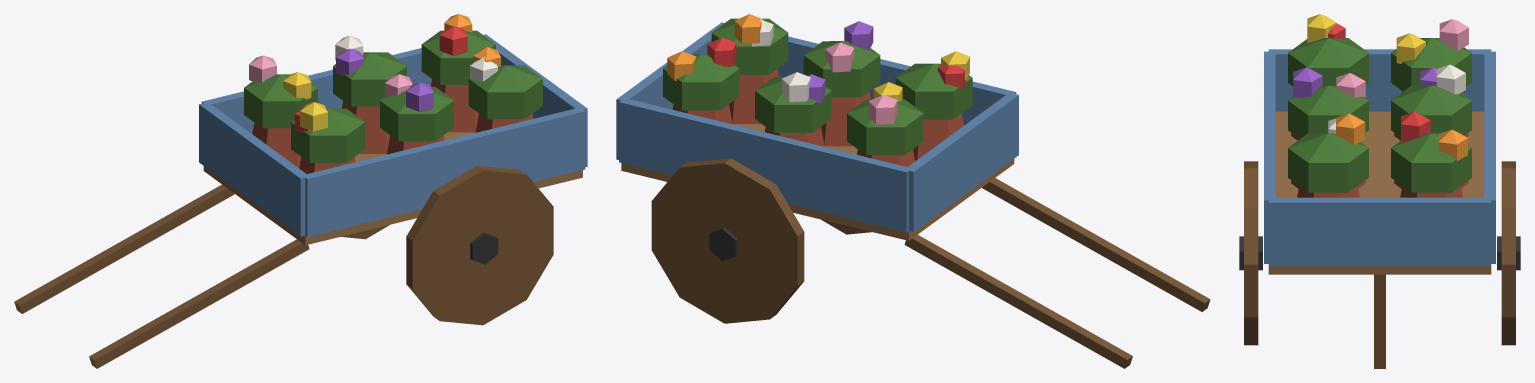
File: flower_cart.glb
The picture shows the model from 3 angles, left to right: view 1: azimuth 30°, elevation 25°; view 2: azimuth 150°, elevation 25°; view 3: azimuth 270°, elevation 25°; orthographic projection. The views are drawn at different scales.
Parts seen in each view (by area): view 1: flower_cart; view 2: flower_cart; view 3: flower_cart.
Boxes of the visible parts, <box> form: flower_cart: <box>14,14,587,368</box>; flower_cart: <box>616,14,1210,368</box>; flower_cart: <box>1239,14,1520,368</box>.
Size of the model in its own units: 2.61 by 1.19 by 1.2.
